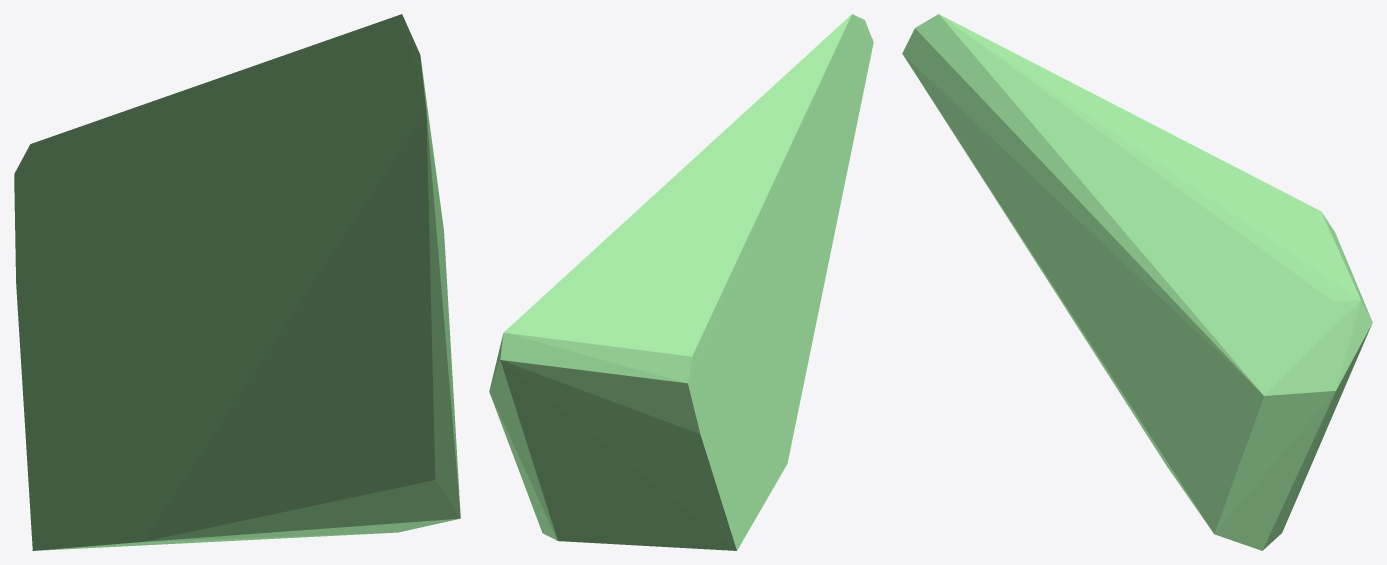
File: UMIRobot_UMIRobot_link_5_convex_coll_25.dae
The picture shows the model from 3 angles, left to right: view 1: azimuth 30°, elevation 25°; view 2: azimuth 150°, elevation 25°; view 3: azimuth 270°, elevation 25°; orthographic projection. The views are drawn at different scales.
Visible parts, largest first — view 1: node; view 2: node; view 3: node.
Part boxes in pixels (bbox=[...]): node: bbox=[14, 14, 460, 550]; node: bbox=[489, 14, 873, 550]; node: bbox=[902, 14, 1372, 550].
Bounding box in the file's own units: 0.0107 × 0.02 × 0.0186.
